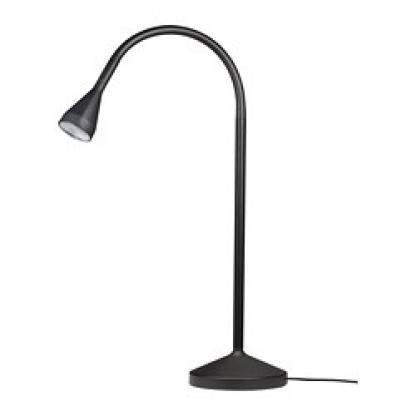Lamp: (46, 19, 298, 404)
